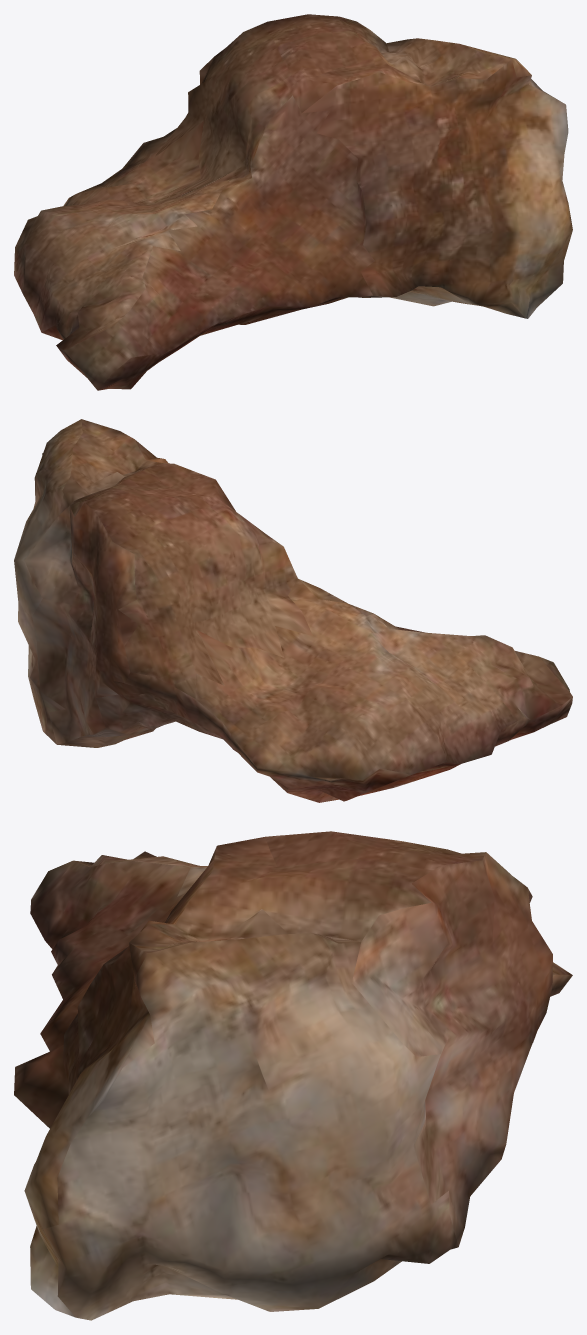
File: stone_01.glb
3 renders of one model, top to bottom at view 1: azimuth 30°, elevation 25°; view 2: azimuth 150°, elevation 25°; view 3: azimuth 270°, elevation 25°, orthographic. The views are drawn at different scales.
Parts seen in each view (by area): view 1: stone_01; view 2: stone_01; view 3: stone_01.
Part boxes in pixels (x1=…): stone_01: x1=14, y1=14, x2=572, y2=390; stone_01: x1=14, y1=419, x2=572, y2=802; stone_01: x1=14, y1=831, x2=572, y2=1320.
Size of the model in its own units: 1.19 by 0.5815 by 0.7259.
1 material, 1 textured.
